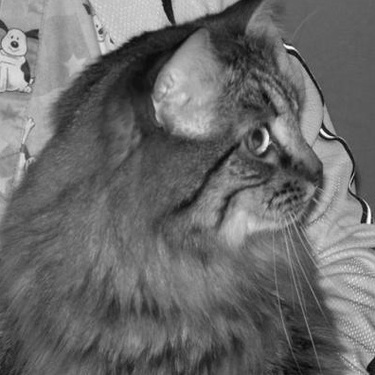cat: (3, 4, 355, 372)
